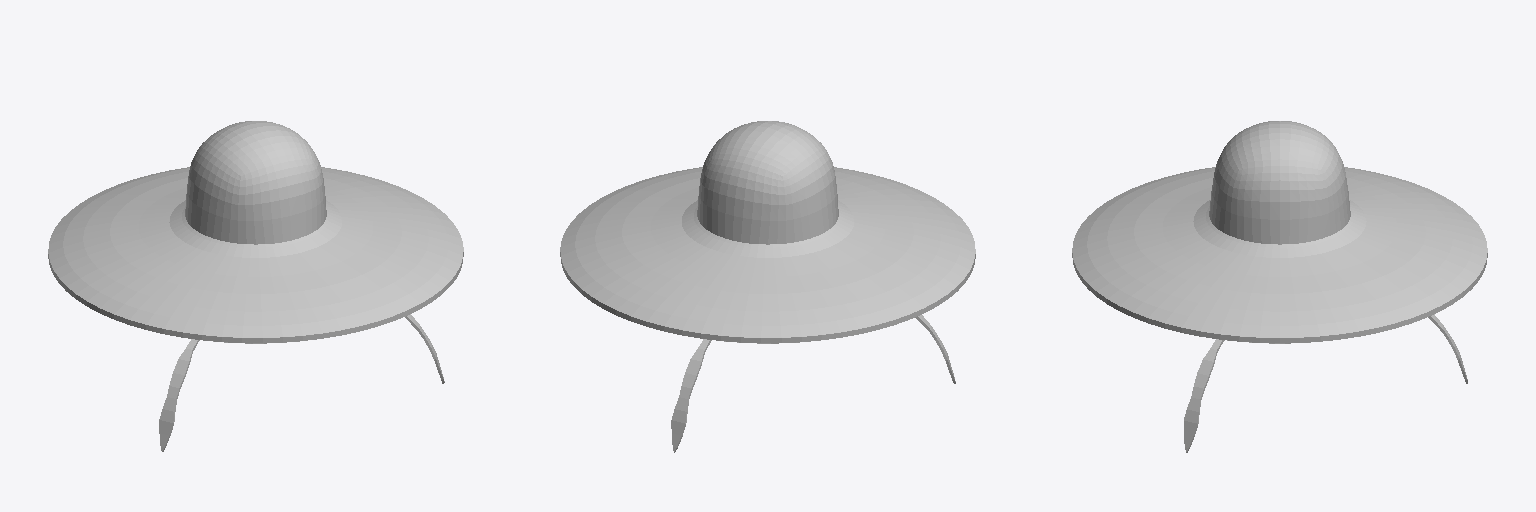
File: ufo.obj
The picture shows the model from 3 angles: view 1: azimuth 30°, elevation 25°; view 2: azimuth 150°, elevation 25°; view 3: azimuth 270°, elevation 25°; orthographic projection.
Parts seen in each view (by area): view 1: UFO; view 2: UFO; view 3: UFO.
Boxes of the visible parts, x1=… form: UFO: x1=48, y1=121, x2=463, y2=451; UFO: x1=560, y1=121, x2=975, y2=452; UFO: x1=1072, y1=121, x2=1487, y2=452.
Bounding box in the file's own units: 1.63 × 1.11 × 1.63.